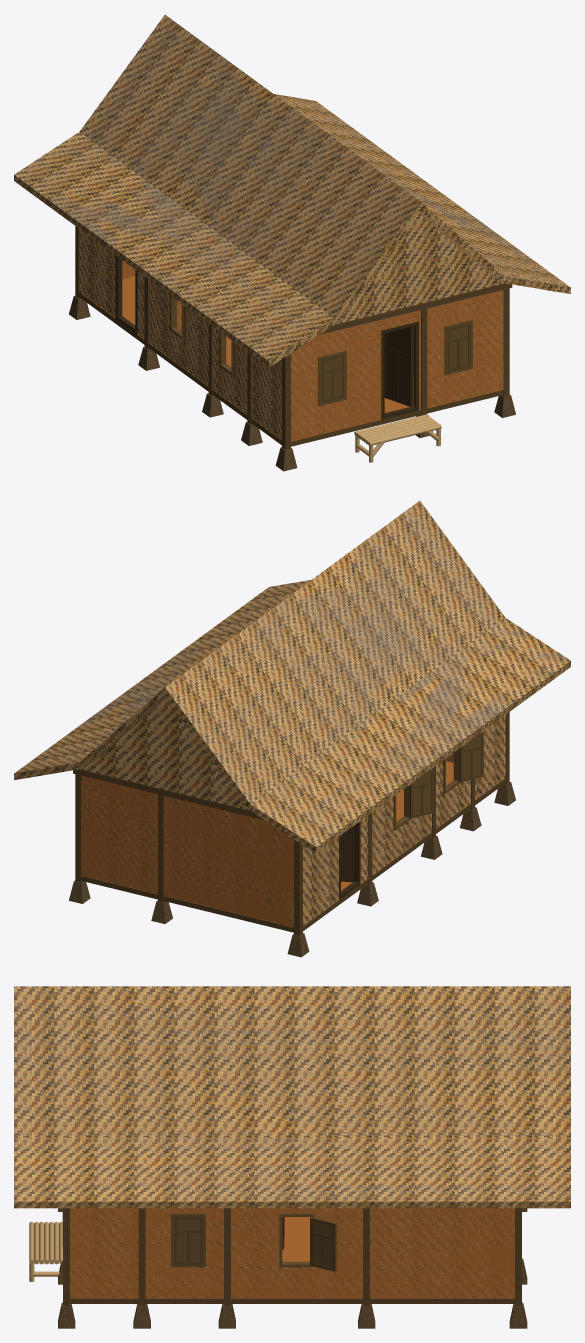
The model's file is imah_panggung_v1.fbx.
3 renders of one model, top to bottom at view 1: azimuth 30°, elevation 25°; view 2: azimuth 150°, elevation 25°; view 3: azimuth 270°, elevation 25°, orthographic. The views are drawn at different scales.
Parts seen in each view (by area): view 1: Group27, Group21, Group74, Group20, Group28, Group73, Group31, Group33, Group71, Group17, Group30, Group18 (+1 smaller); view 2: Group27, Group21, Group19, Group18, Group32, Group37, Group72, Group30, Group28, Group71; view 3: Group27, Group21, Group24, Group32, Group31, Group26, Group35, Group67, Group64, Group60, Group65.
Part boxes in pixels (bbox=[...]): Group27: bbox=[14, 14, 570, 367]; Group21: bbox=[79, 229, 503, 446]; Group74: bbox=[384, 326, 412, 406]; Group20: bbox=[320, 283, 512, 334]; Group28: bbox=[275, 354, 297, 471]; Group73: bbox=[381, 321, 418, 419]; Group31: bbox=[494, 288, 515, 417]; Group33: bbox=[416, 308, 432, 437]; Group71: bbox=[115, 256, 137, 334]; Group17: bbox=[202, 324, 223, 417]; Group30: bbox=[138, 277, 159, 370]; Group18: bbox=[69, 226, 90, 319]; Group27: bbox=[14, 500, 570, 853]; Group21: bbox=[81, 715, 505, 932]; Group19: bbox=[73, 769, 264, 820]; Group18: bbox=[287, 840, 309, 957]; Group32: bbox=[69, 774, 90, 903]; Group37: bbox=[151, 794, 172, 923]; Group72: bbox=[341, 826, 354, 882]; Group30: bbox=[357, 812, 378, 906]; Group28: bbox=[494, 712, 515, 805]; Group71: bbox=[339, 821, 360, 899]; Group27: bbox=[14, 986, 570, 1208]; Group21: bbox=[70, 1208, 514, 1303]; Group24: bbox=[133, 1208, 150, 1328]; Group32: bbox=[509, 1208, 527, 1328]; Group31: bbox=[58, 1208, 75, 1328]; Group26: bbox=[358, 1208, 375, 1328]; Group35: bbox=[218, 1208, 235, 1328]; Group67: bbox=[310, 1217, 336, 1271]; Group64: bbox=[174, 1217, 202, 1264]; Group60: bbox=[171, 1213, 205, 1267]; Group65: bbox=[279, 1213, 314, 1267].
Bounding box in the file's own units: 7.61 × 6.18 × 11.12.
